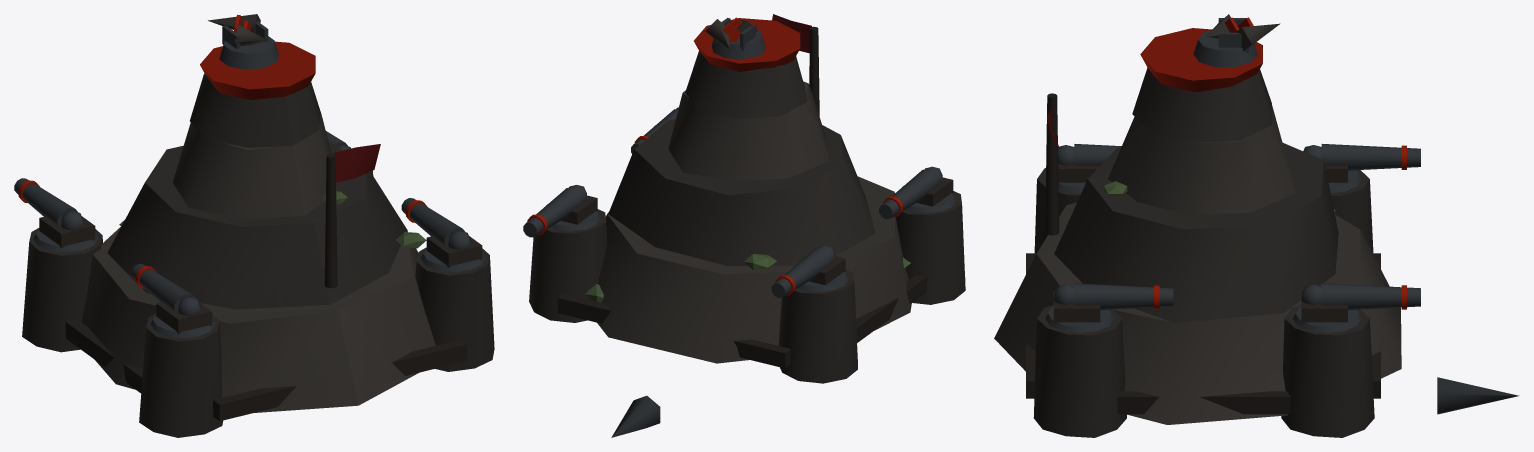
Rendered from boss-islewrath.glb.
The picture shows the model from 3 angles, left to right: view 1: azimuth 30°, elevation 25°; view 2: azimuth 150°, elevation 25°; view 3: azimuth 270°, elevation 25°; orthographic projection. The views are drawn at different scales.
Visible parts, largest first — view 1: boss-island-mesh, boss-gun-mesh-gun_t3, boss-gun-mesh-gun_t4, boss-gun-mesh-gun_t1, boss-laser-mesh; view 2: boss-island-mesh, boss-gun-mesh-gun_t2, boss-gun-mesh-gun_t3, boss-gun-mesh-gun_t1, boss-laser-mesh; view 3: boss-island-mesh, boss-gun-mesh-gun_t4, boss-gun-mesh-gun_t2, boss-gun-mesh-gun_t1, boss-laser-mesh, boss-gun-mesh-gun_t3.
Boxes of the visible parts, x1=… form: boss-island-mesh: x1=22, y1=41, x2=494, y2=437; boss-gun-mesh-gun_t3: x1=131, y1=264, x2=215, y2=337; boss-gun-mesh-gun_t4: x1=401, y1=198, x2=485, y2=271; boss-gun-mesh-gun_t1: x1=14, y1=178, x2=98, y2=252; boss-laser-mesh: x1=208, y1=14, x2=278, y2=69; boss-island-mesh: x1=529, y1=14, x2=965, y2=437; boss-gun-mesh-gun_t2: x1=523, y1=185, x2=600, y2=237; boss-gun-mesh-gun_t3: x1=879, y1=166, x2=955, y2=219; boss-gun-mesh-gun_t1: x1=771, y1=245, x2=848, y2=297; boss-laser-mesh: x1=705, y1=17, x2=765, y2=59; boss-island-mesh: x1=994, y1=28, x2=1519, y2=437; boss-gun-mesh-gun_t4: x1=1045, y1=283, x2=1173, y2=332; boss-gun-mesh-gun_t2: x1=1293, y1=283, x2=1420, y2=332; boss-gun-mesh-gun_t1: x1=1303, y1=144, x2=1420, y2=192; boss-laser-mesh: x1=1193, y1=14, x2=1280, y2=67; boss-gun-mesh-gun_t3: x1=1045, y1=144, x2=1121, y2=193.
Bounding box in the file's own units: 1.53 × 1.59 × 1.91.
